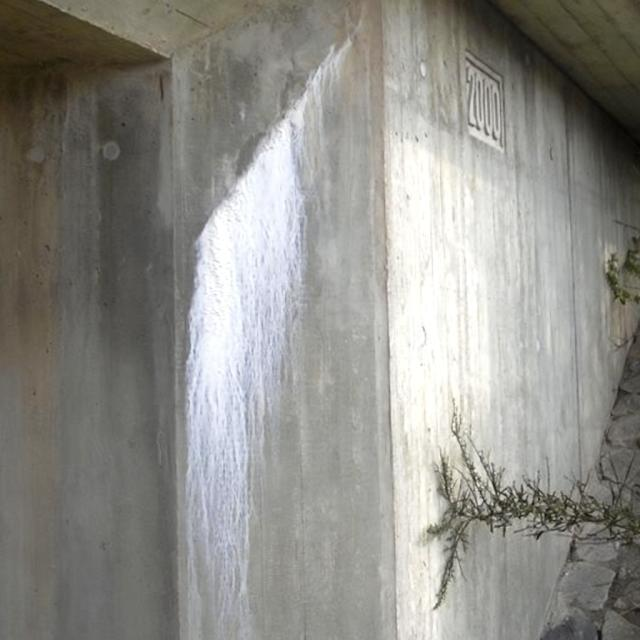D01: (182, 42, 341, 637)
